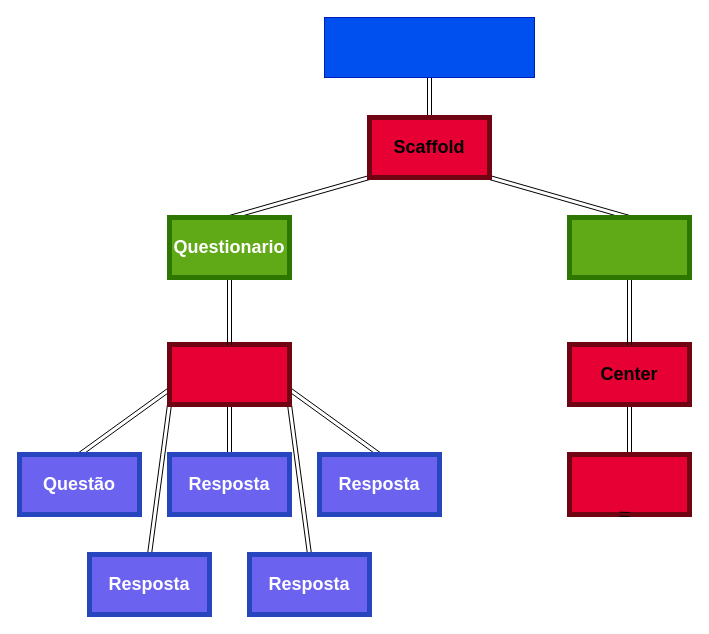
This 709x634 diagram has some shape labels left out. The shapes that lost their labels are listed below. From the top down, each one's box as (x1, y1, x2, y2) in pixels, then its label:
(324, 16, 534, 78): PerguntaAPP
(566, 214, 692, 280): Resultado
(166, 342, 292, 406): Column
(566, 452, 692, 516): Text
